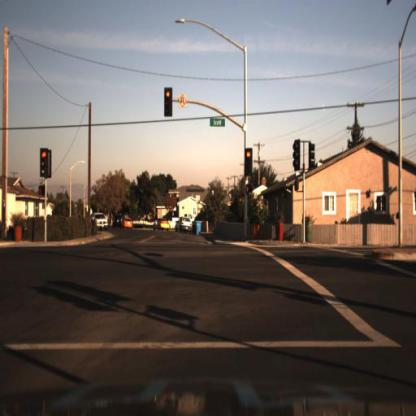car: (88, 212, 107, 235), (175, 214, 192, 234), (153, 216, 170, 231), (121, 216, 133, 232)
trafficLight-Red: (38, 145, 48, 179), (162, 86, 172, 118), (243, 146, 252, 177)
